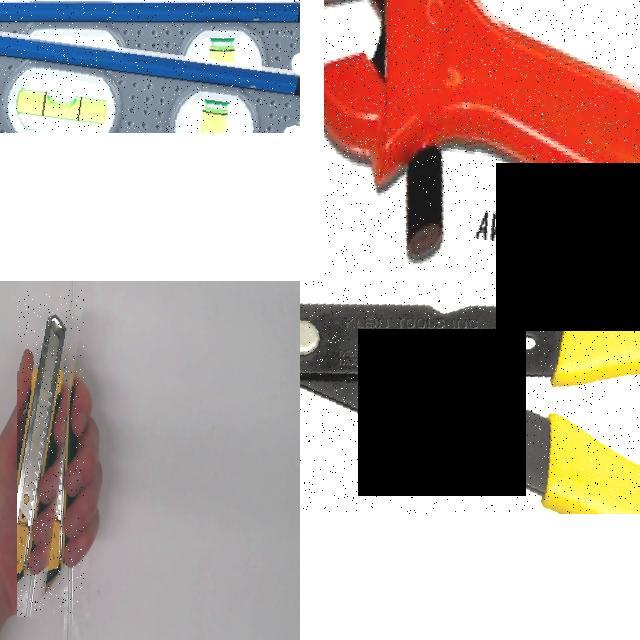estilete: (18, 316, 64, 579)
